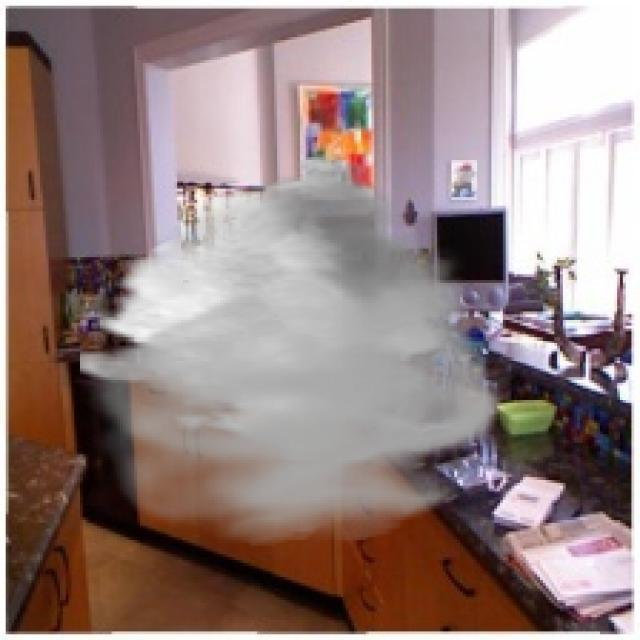Smoke: (80, 151, 506, 546)
